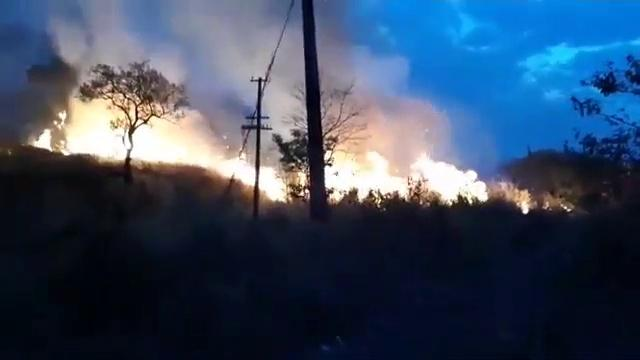fire: (68, 105, 125, 162), (146, 122, 205, 165), (330, 154, 389, 192), (426, 165, 485, 202)
